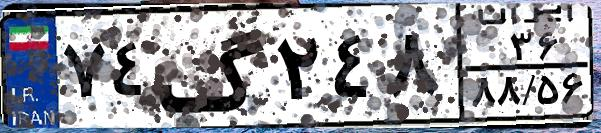2: (270, 28, 330, 110)
3: (508, 27, 537, 80)
4: (330, 28, 385, 110), (110, 28, 156, 98)
5: (535, 70, 560, 125)
6: (560, 70, 590, 125), (537, 27, 568, 80)
7: (57, 26, 110, 100)
8: (385, 28, 445, 110), (470, 70, 495, 125), (495, 70, 520, 125)
گ: (156, 12, 270, 120)
